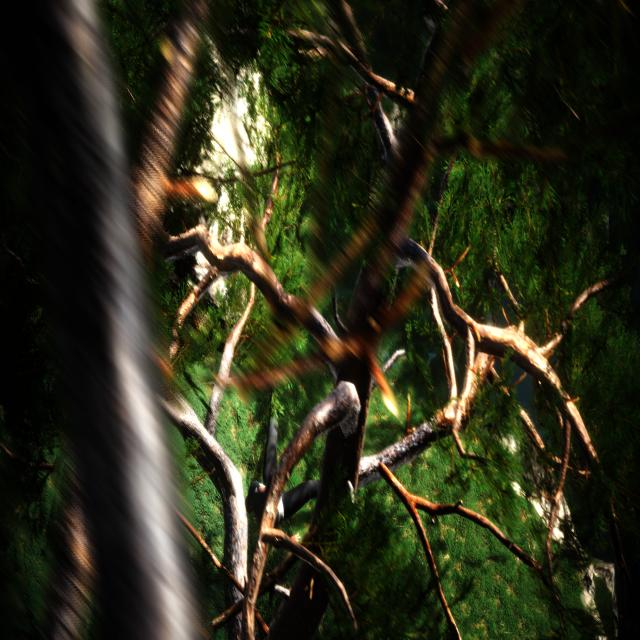Human: (246, 374, 336, 536)
